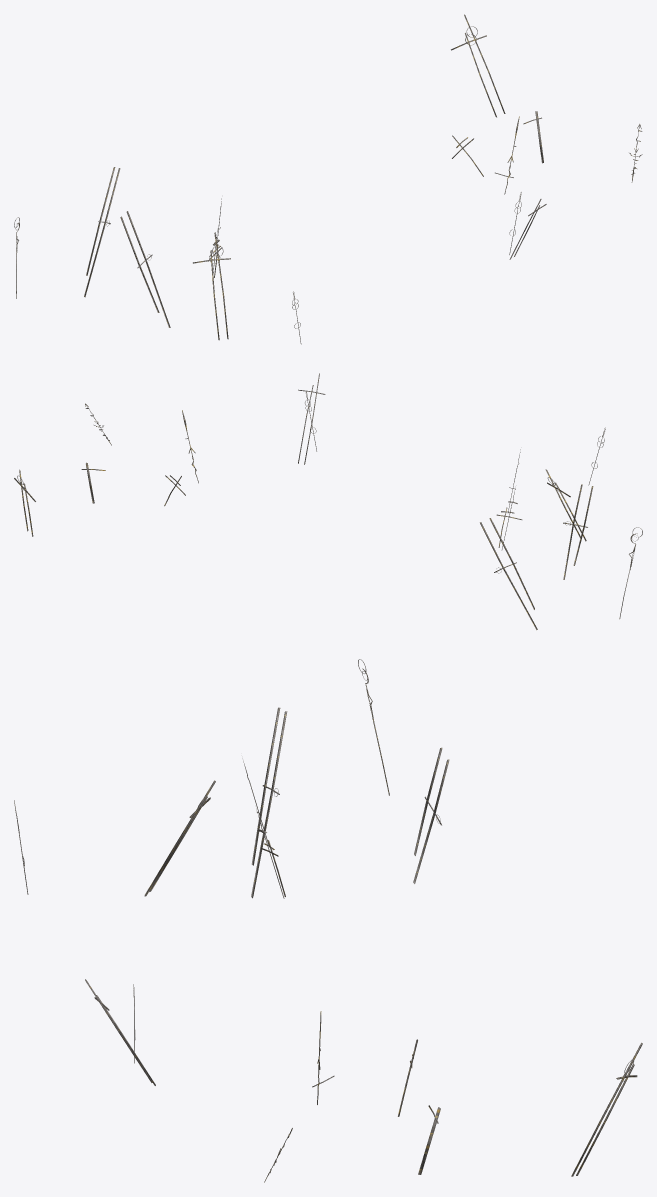
3 renders of one model, top to bottom at view 1: azimuth 30°, elevation 25°; view 2: azimuth 150°, elevation 25°; view 3: azimuth 270°, elevation 25°, orthographic. The views are drawn at different scales.
Visible parts, largest first — view 1: Material_#117; view 2: Material_#117; view 3: Material_#117.
Boxes of the visible parts, <box> form: Material_#117: <box>14,14,642,344</box>; Material_#117: <box>14,373,642,630</box>; Material_#117: <box>14,659,642,1182</box>.
Size of the model in its own units: 878 by 179 by 553.
Materials: 1 (1 with a texture image).
